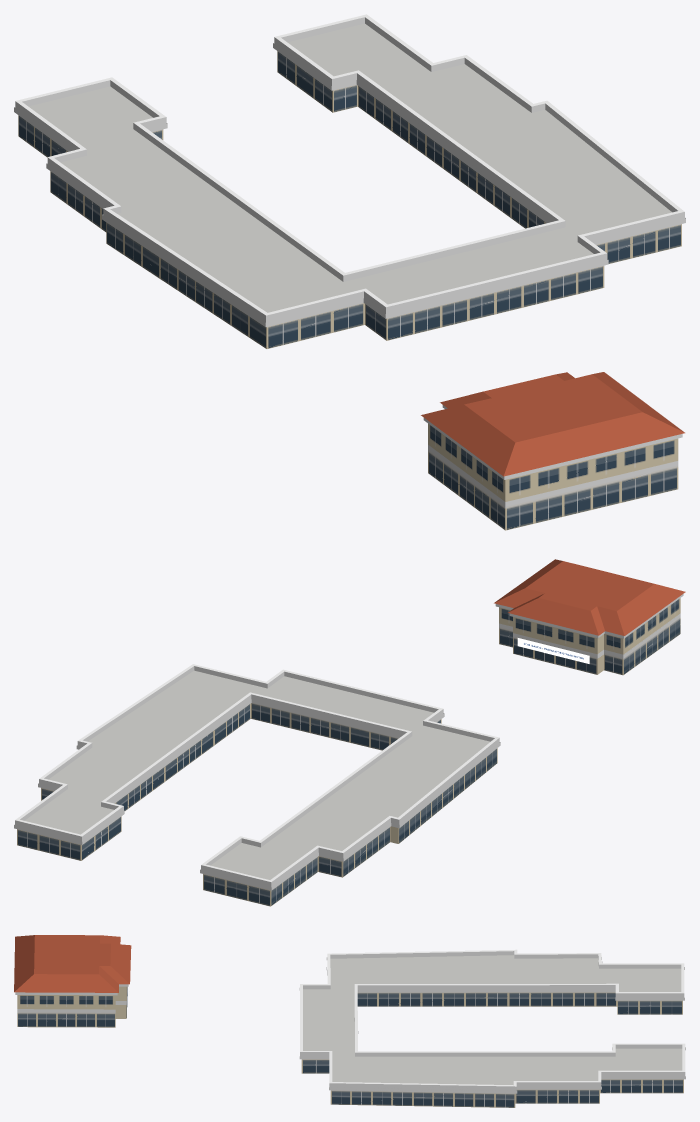
Rendered from scolwashington.glb.
3 views of the same model, one above another, from view 1: azimuth 30°, elevation 25°; view 2: azimuth 150°, elevation 25°; view 3: azimuth 270°, elevation 25° (orthographic). The views are drawn at different scales.
Parts seen in each view (by area): view 1: scolwashington_lod0; view 2: scolwashington_lod0; view 3: scolwashington_lod0.
Boxes of the visible parts, left/top/right/bottom form: scolwashington_lod0: left=14, top=14, right=685, bottom=530; scolwashington_lod0: left=14, top=559, right=685, bottom=906; scolwashington_lod0: left=14, top=935, right=685, bottom=1107.
Size of what is drawn, in the model's own units: 58.74 by 9.2 by 122.
Materials: 6 (3 with a texture image).
